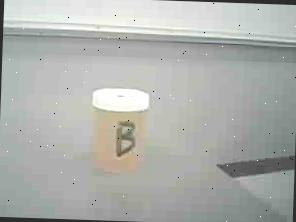Bottle B: (85, 86, 152, 178)
